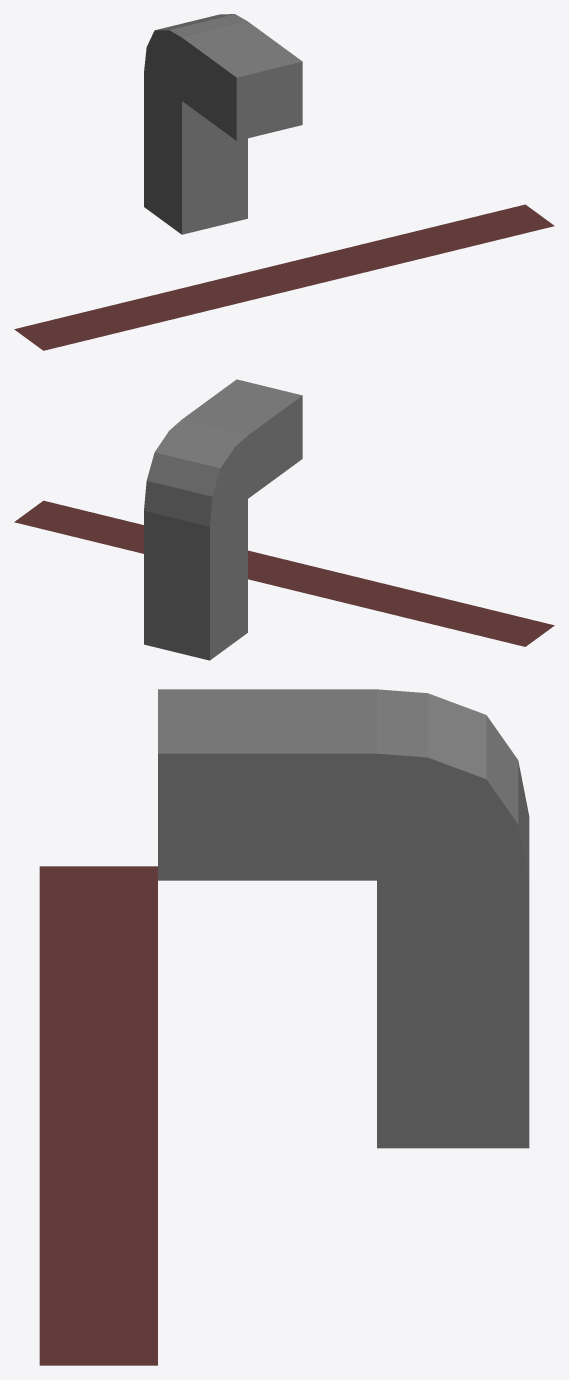
The model's file is Straight_Edge_Roof_Wall_Inner_Corner.obj.
The picture shows the model from 3 angles, top to bottom: view 1: azimuth 30°, elevation 25°; view 2: azimuth 150°, elevation 25°; view 3: azimuth 270°, elevation 25°; orthographic projection. The views are drawn at different scales.
Parts seen in each view (by area): view 1: Straight_Edge_Roof_Wall_Inner_Corner; view 2: Straight_Edge_Roof_Wall_Inner_Corner; view 3: Straight_Edge_Roof_Wall_Inner_Corner.
Boxes of the visible parts, x1,y1,x2,y2 form: Straight_Edge_Roof_Wall_Inner_Corner: [14, 14, 554, 350]; Straight_Edge_Roof_Wall_Inner_Corner: [14, 379, 554, 660]; Straight_Edge_Roof_Wall_Inner_Corner: [39, 689, 529, 1365].
Size of the model in its own units: 1 by 0.3685 by 0.4145.
